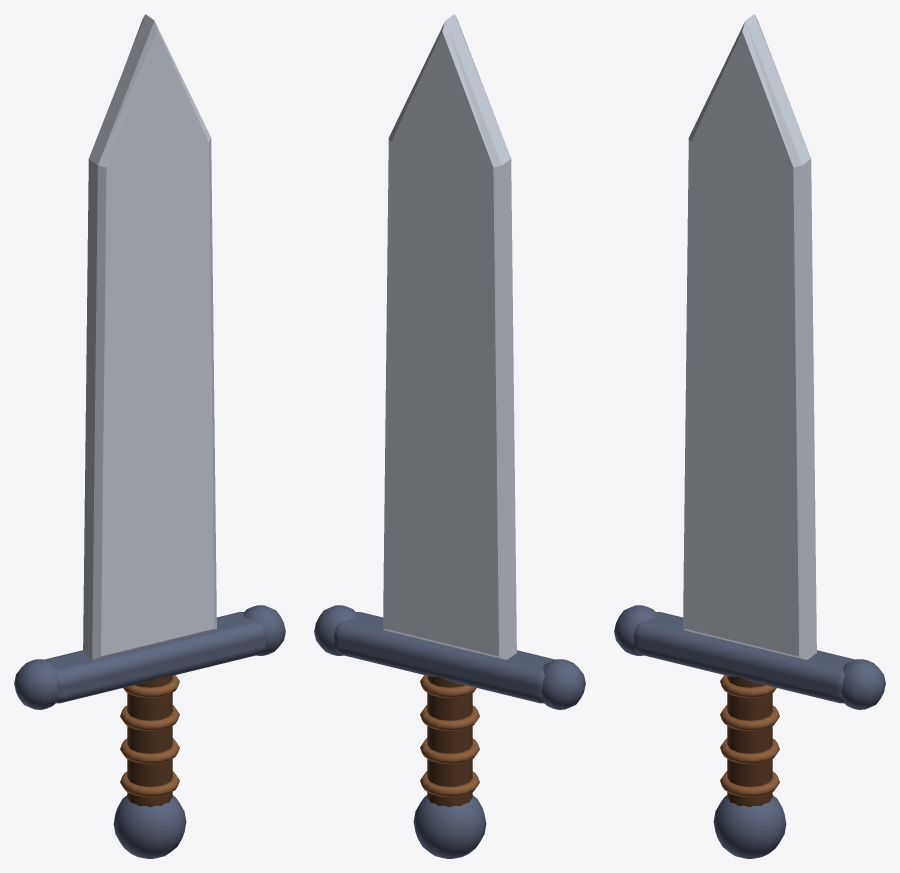
File: sword_iron.glb
3 renders of one model, left to right at view 1: azimuth 30°, elevation 25°; view 2: azimuth 150°, elevation 25°; view 3: azimuth 330°, elevation 25°, orthographic.
Parts seen in each view (by area): view 1: Blade, Crossbar, Grip, Pommel, GuardCapL, GuardCapR, GripWrap0, GripWrap1, GripWrap2, GripWrap3; view 2: Blade, Crossbar, Grip, Pommel, GuardCapL, GuardCapR, GripWrap0, GripWrap1, GripWrap2, GripWrap3; view 3: Blade, Crossbar, Grip, Pommel, GuardCapR, GuardCapL, GripWrap0, GripWrap1, GripWrap2, GripWrap3.
Boxes of the visible parts, x1,y1,x2,y2 form: Blade: [83, 14, 216, 659]; Crossbar: [44, 612, 265, 703]; Grip: [127, 676, 172, 807]; Pommel: [113, 795, 186, 858]; GuardCapL: [14, 659, 58, 709]; GuardCapR: [243, 605, 285, 655]; GripWrap0: [120, 771, 179, 797]; GripWrap1: [120, 738, 179, 764]; GripWrap2: [120, 705, 179, 730]; GripWrap3: [123, 675, 179, 697]; Blade: [383, 14, 516, 659]; Crossbar: [334, 612, 555, 703]; Grip: [427, 676, 472, 807]; Pommel: [413, 795, 486, 858]; GuardCapL: [541, 659, 585, 709]; GuardCapR: [314, 605, 356, 655]; GripWrap0: [420, 771, 479, 797]; GripWrap1: [420, 738, 479, 764]; GripWrap2: [420, 705, 479, 730]; GripWrap3: [420, 675, 476, 697]; Blade: [683, 14, 816, 659]; Crossbar: [634, 612, 855, 703]; Grip: [727, 676, 772, 807]; Pommel: [713, 795, 786, 858]; GuardCapR: [841, 659, 885, 709]; GuardCapL: [614, 605, 656, 655]; GripWrap0: [720, 771, 779, 797]; GripWrap1: [720, 738, 779, 764]; GripWrap2: [720, 705, 779, 730]; GripWrap3: [720, 675, 776, 697].
Bounding box in the file's own units: 0.336 × 1.01 × 0.078.
